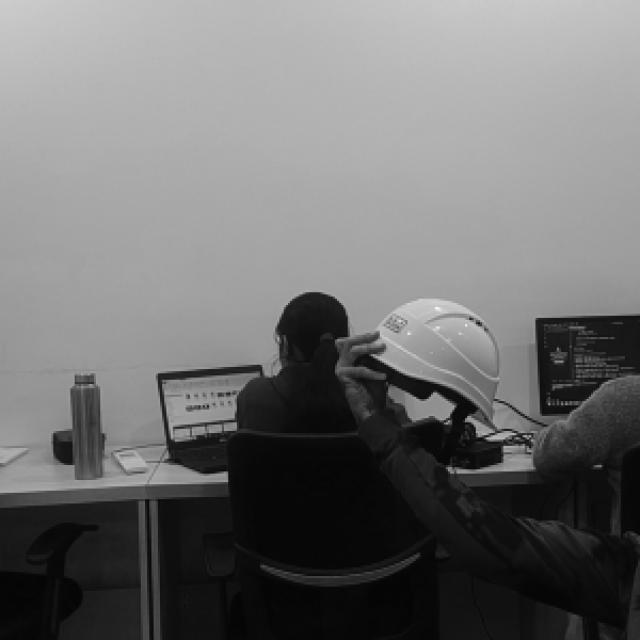safety_helmet: (367, 298, 499, 432)
